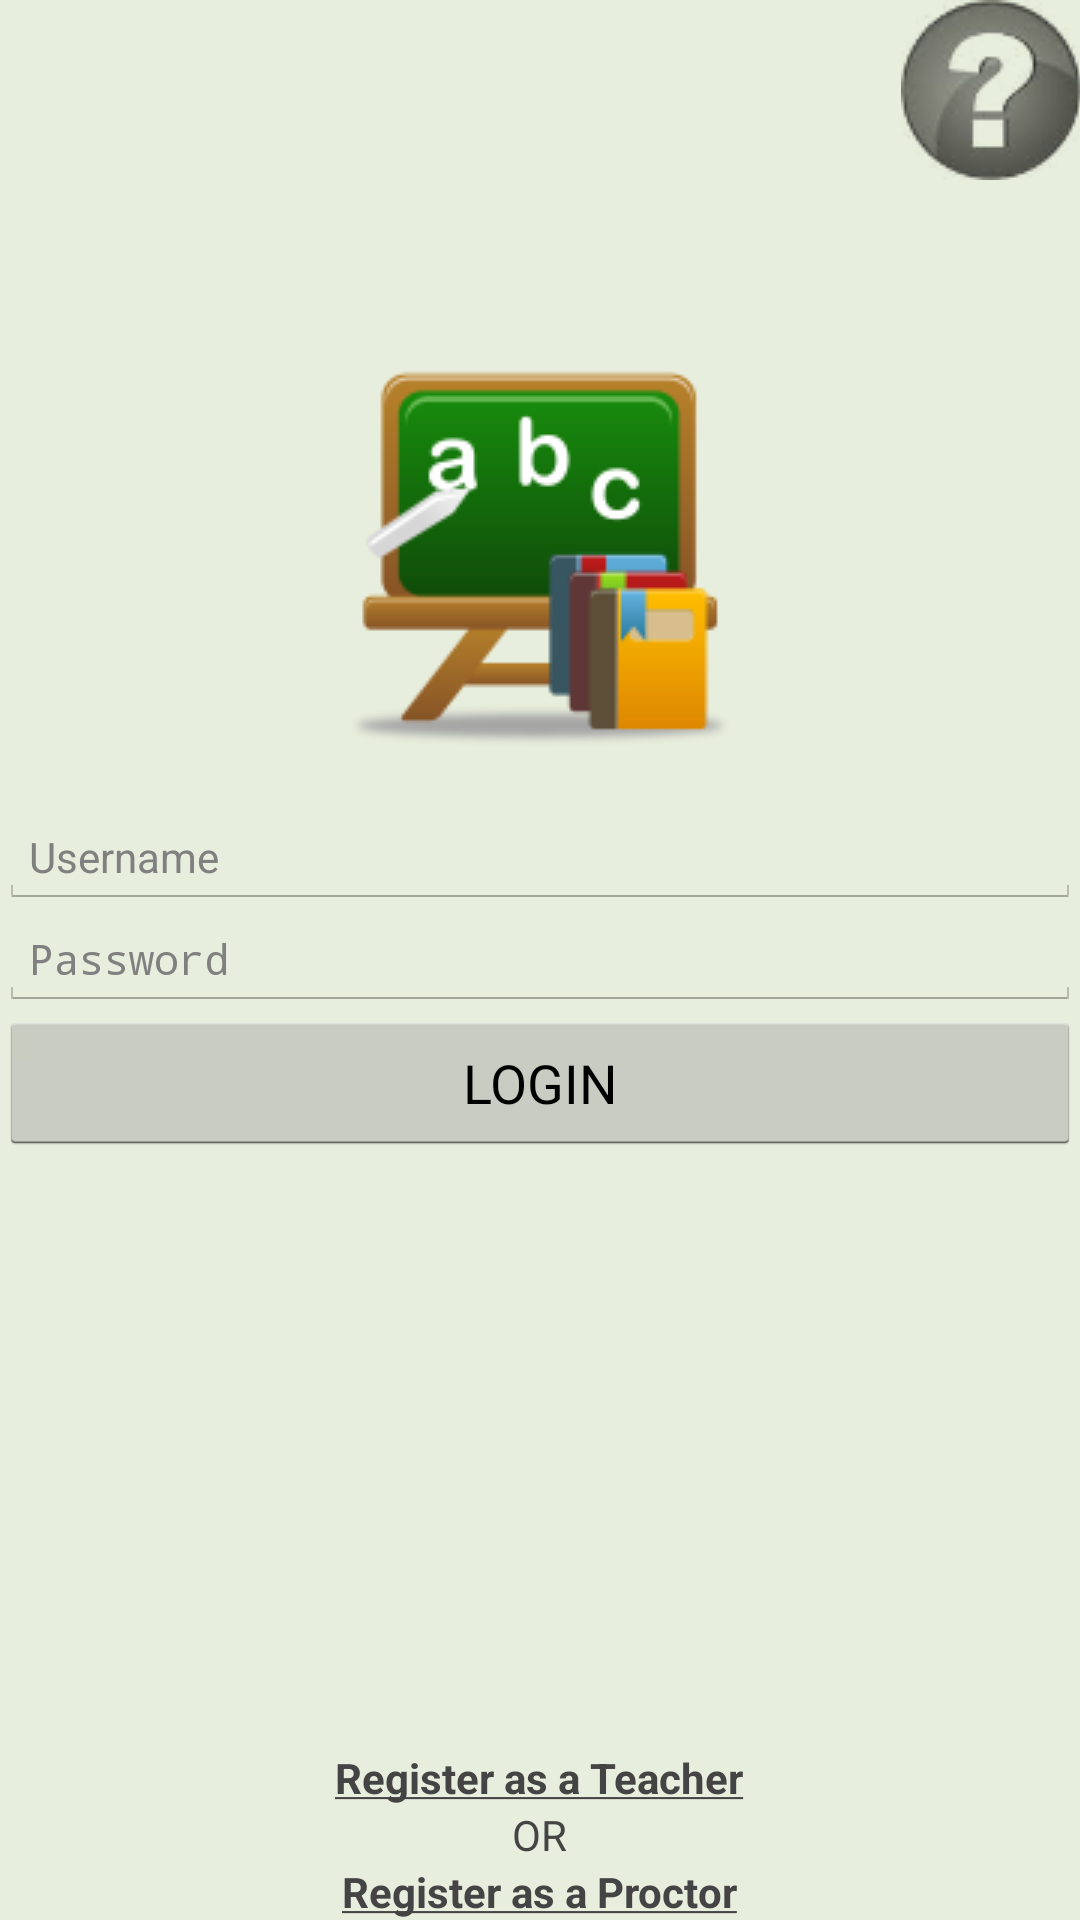

Point at icon controls on the screen. Image size 1080px×1920px, points as point (x, y).
demo help: point (990, 90)
